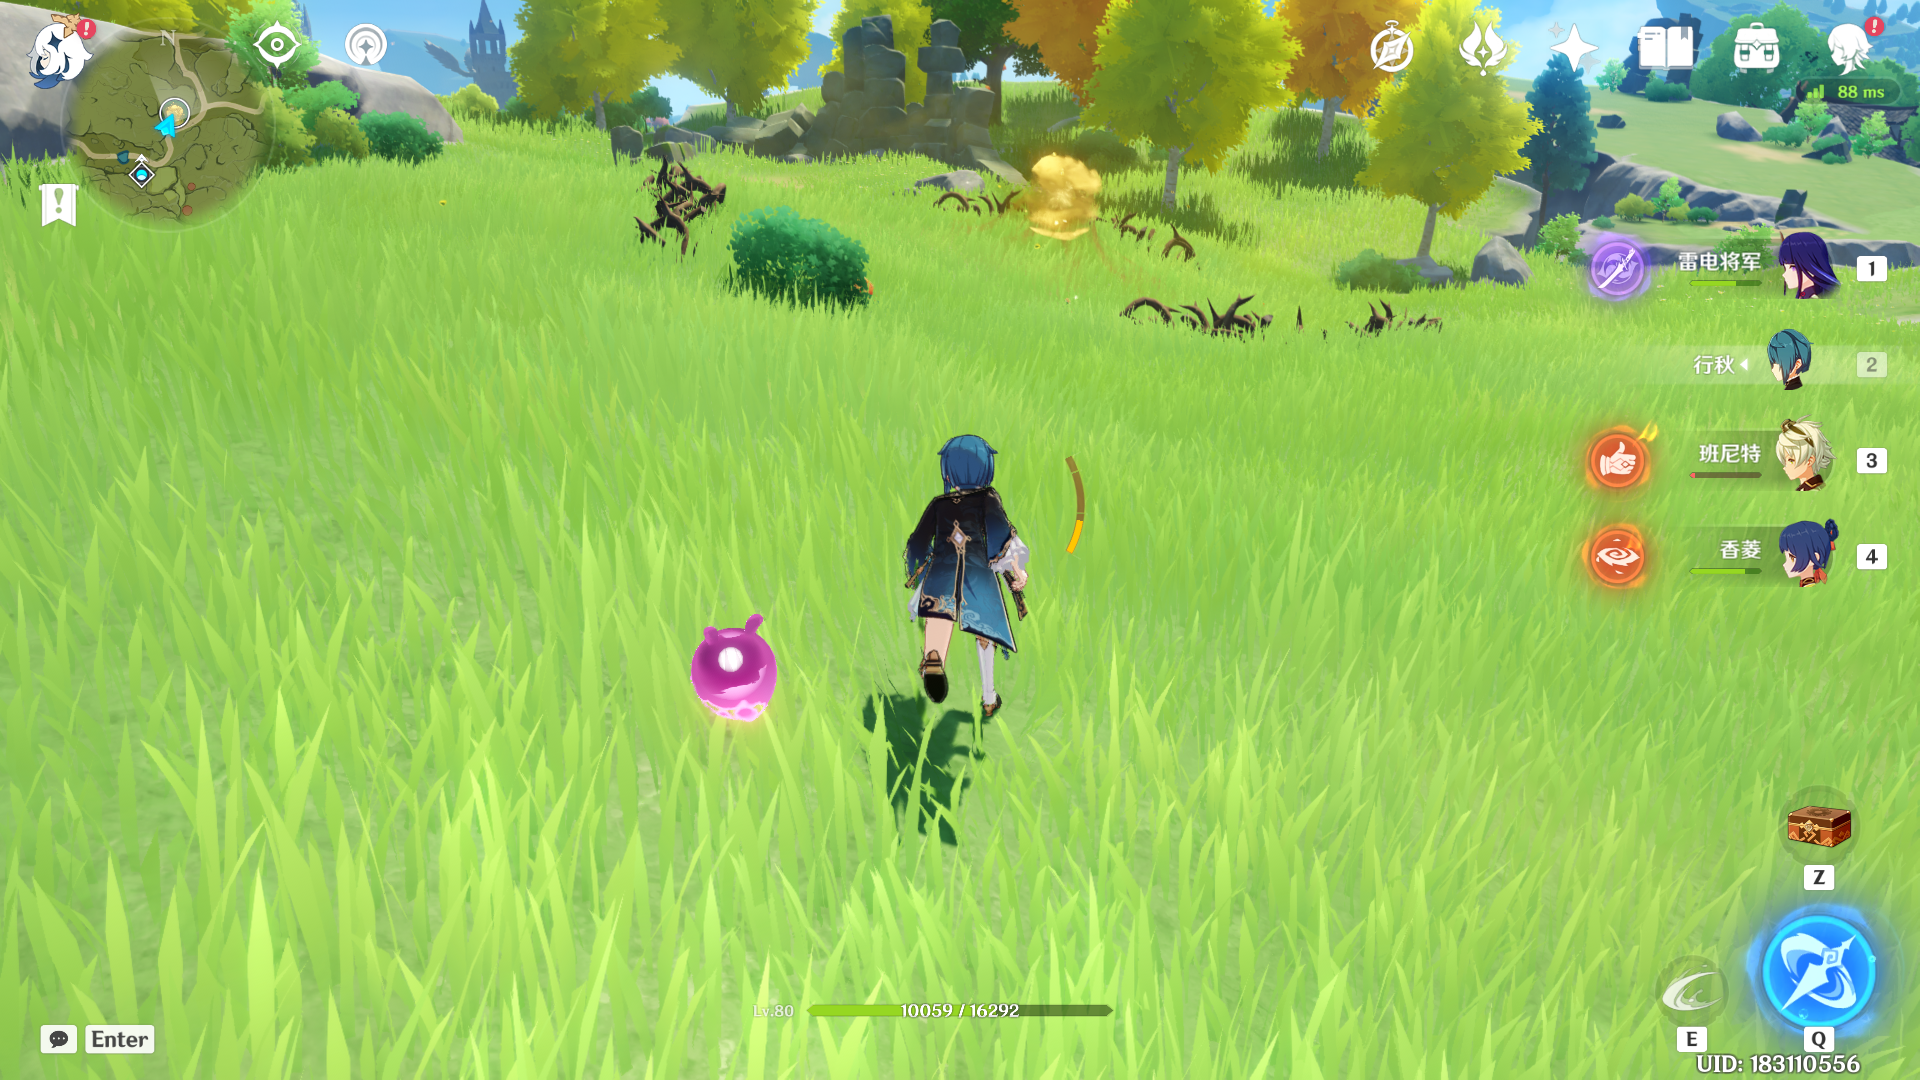character: (858, 392, 1073, 735)
